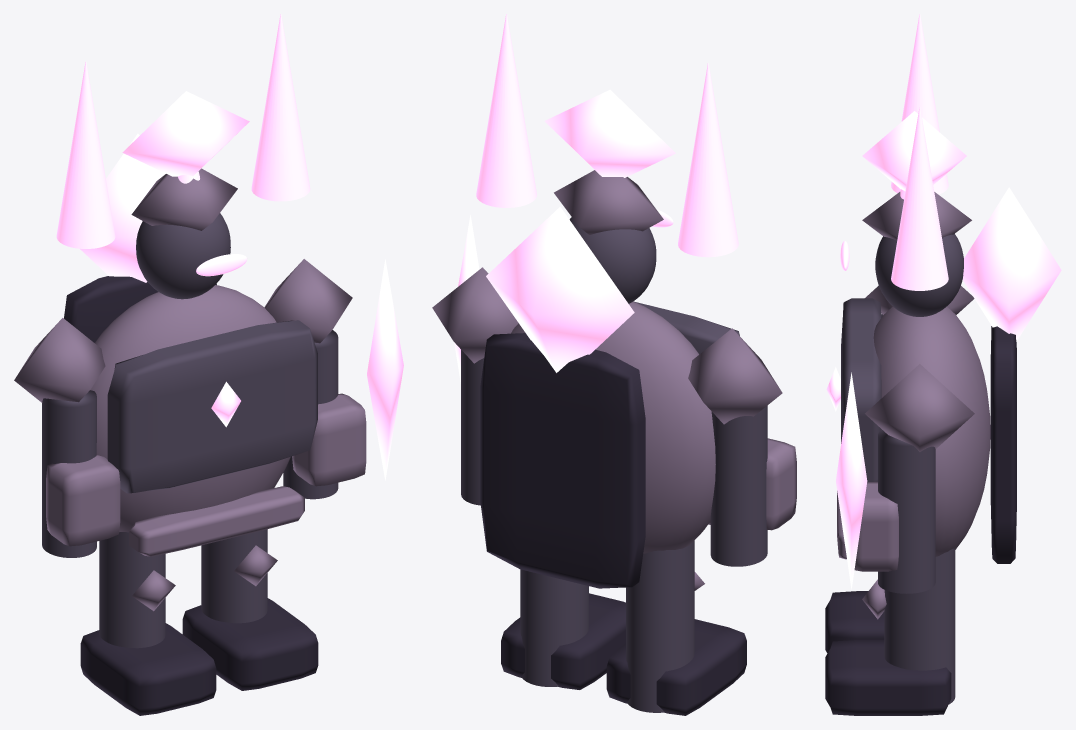
The model's file is dark-lord.glb.
The picture shows the model from 3 angles, left to right: view 1: azimuth 30°, elevation 25°; view 2: azimuth 150°, elevation 25°; view 3: azimuth 270°, elevation 25°; orthographic projection. The views are drawn at different scales.
Visible parts, largest first — view 1: breastplate, torso, leftBoot, rightBoot, ExtraBelt, ExtraHornR, ExtraHornL, leftLeg, ExtraForearmL, ExtraCrown, head, shoulder-1 (+13 smaller); view 2: cape, torso, backSpikes, leftLeg, arm-1, ExtraHornR, ExtraHornL, leftBoot, ExtraCrown, rightLeg, shoulder-1, rightBoot (+7 smaller); view 3: torso, backSpikes, rightBoot, arm1, rightLeg, cape, ExtraHornR, shoulder1, breastplate, blade, ExtraCrown, head (+7 smaller).
Part boxes in pixels (box(x1,y1,x2,y2)): breastplate: box(107, 320, 317, 493); torso: box(90, 285, 290, 532); leftBoot: box(80, 623, 216, 715); rightBoot: box(182, 598, 318, 690); ExtraBelt: box(129, 486, 304, 556); ExtraHornR: box(251, 14, 310, 201); ExtraHornL: box(56, 61, 115, 248); leftLeg: box(99, 532, 165, 648); ExtraForearmL: box(46, 455, 120, 546); ExtraCrown: box(122, 91, 249, 176); head: box(136, 213, 230, 299); shoulder-1: box(14, 318, 105, 402); cape: box(480, 333, 645, 588); torso: box(511, 301, 715, 553); backSpikes: box(486, 206, 634, 372); leftLeg: box(626, 540, 694, 712); arm-1: box(710, 405, 767, 566); ExtraHornR: box(476, 14, 536, 207); ExtraHornL: box(678, 63, 738, 257); leftBoot: box(606, 619, 746, 715); ExtraCrown: box(544, 89, 675, 177); rightLeg: box(520, 569, 588, 686); shoulder-1: box(688, 328, 782, 424); rightBoot: box(501, 593, 625, 689); torso: box(873, 306, 990, 556); backSpikes: box(962, 187, 1061, 341); rightBoot: box(825, 640, 951, 715); arm1: box(878, 430, 935, 593); rightLeg: box(884, 548, 955, 704); cape: box(990, 326, 1016, 563); ExtraHornR: box(891, 107, 948, 290); shoulder1: box(865, 364, 974, 451); breastplate: box(841, 298, 881, 481); blade: box(836, 372, 867, 589); ExtraCrown: box(862, 111, 966, 191); head: box(875, 233, 963, 316).
Bounding box in the file's own units: 1.53 × 2.58 × 0.9.
